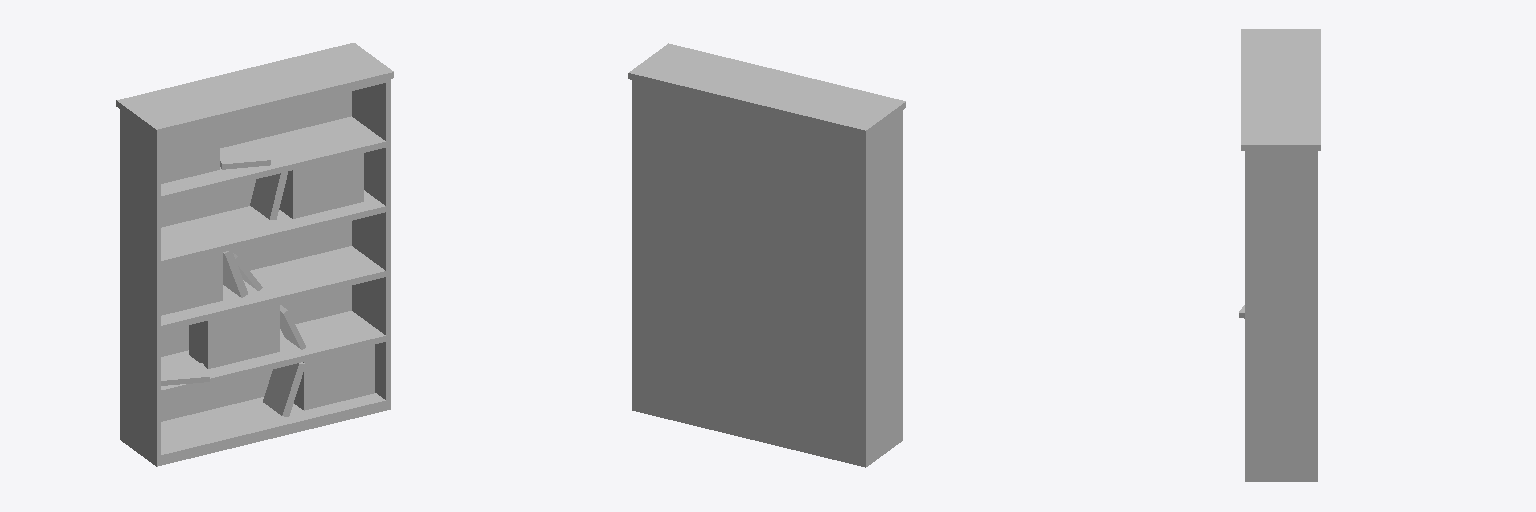
File: librero.obj
3 renders of one model, left to right at view 1: azimuth 30°, elevation 25°; view 2: azimuth 150°, elevation 25°; view 3: azimuth 270°, elevation 25°, orthographic.
Parts seen in each view (by area): view 1: Base, BookCollection05, BookCollection03, BookCollection02, BookCollection01, BookCollection04, Book004, Book007, Book003, Book002, Book006, Book001; view 2: Base; view 3: Base.
Part boxes in pixels (bbox=[...]): Base: bbox=[116, 43, 393, 466]; BookCollection05: bbox=[189, 303, 279, 368]; BookCollection03: bbox=[279, 153, 363, 218]; BookCollection02: bbox=[294, 345, 374, 410]; BookCollection01: bbox=[161, 252, 222, 315]; BookCollection04: bbox=[161, 123, 219, 183]; Book004: bbox=[263, 362, 305, 416]; Book007: bbox=[250, 172, 287, 219]; Book003: bbox=[220, 146, 270, 169]; Book002: bbox=[161, 363, 209, 385]; Book006: bbox=[223, 250, 247, 297]; Book001: bbox=[280, 305, 305, 349]; Base: bbox=[628, 43, 905, 467]; Base: bbox=[1241, 29, 1320, 481].
Bounding box in the file's own units: 78.08 × 106 × 23.59.